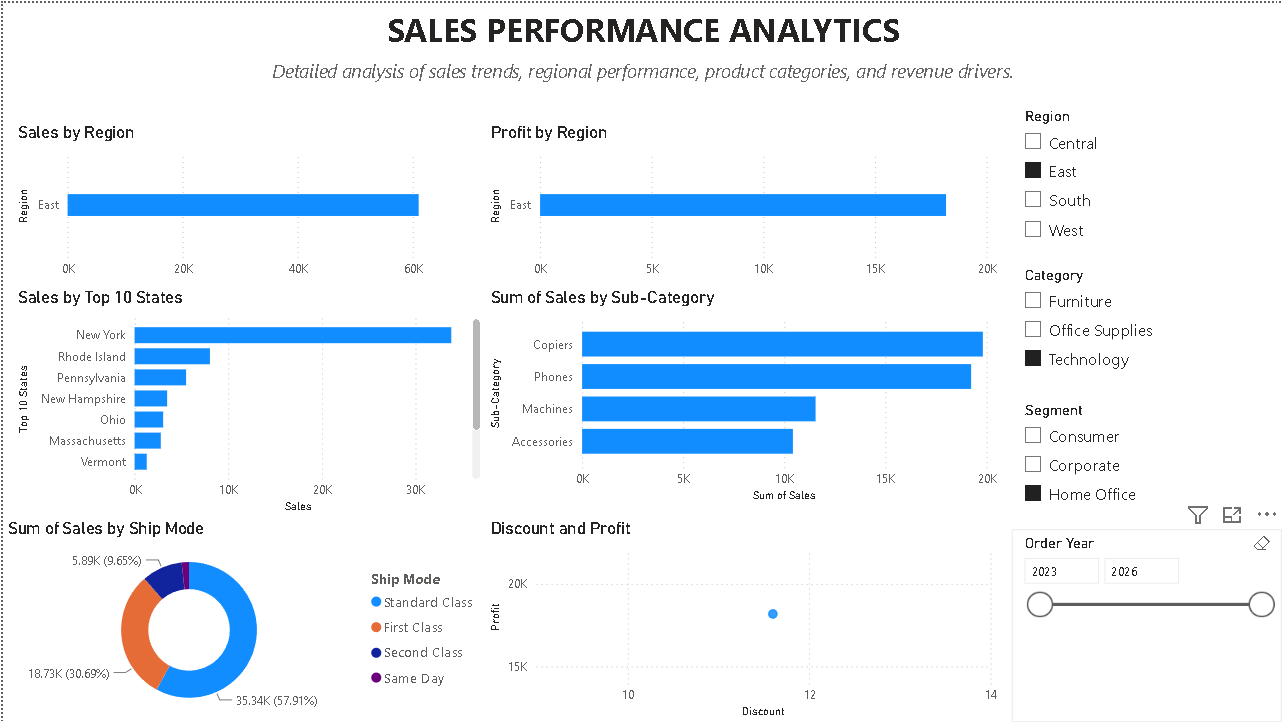

Layout of this report page (visuals, bound fields, positions):
{"tool":"powerbi","page":{"name":"Sales Analytics Dashboard","canvas":[1280,720],"ordinal":1},"visuals":[{"type":"clusteredBarChart","fields":{"Category":["superstore_final.Region"],"Y":["Sum(superstore_final.Sales)"]},"box":[10,118.8,472.5,165],"z":0},{"type":"clusteredBarChart","fields":{"Category":["superstore_final.Region"],"Y":["Sum(superstore_final.Profit)"]},"box":[482.5,118.8,516.2,165],"z":1000},{"type":"clusteredBarChart","fields":{"Category":["superstore_final.State/Province"],"Y":["Sum(superstore_final.Sales)"]},"box":[10,283.8,472.5,231.2],"z":2000},{"type":"clusteredBarChart","fields":{"Category":["superstore_final.Sub-Category"],"Y":["Sum(superstore_final.Sales)"]},"box":[482.5,283.8,516.2,220],"z":3000},{"type":"donutChart","fields":{"Category":["superstore_final.Ship Mode"],"Y":["Sum(superstore_final.Sales)"]},"box":[0,515,482.5,205],"z":4000},{"type":"scatterChart","fields":{"X":["Sum(superstore_final.Discount)"],"Y":["Sum(superstore_final.Profit)"]},"box":[482.5,515,516.2,205],"z":5000},{"type":"slicer","fields":{"Values":["superstore_final.Region"]},"box":[1008.8,100,271.2,158.8],"z":6000},{"type":"slicer","fields":{"Values":["superstore_final.Category"]},"box":[1008.8,258.8,271.2,128.8],"z":7000},{"type":"slicer","fields":{"Values":["superstore_final.Segment"]},"box":[1008.8,393.8,271.2,132.5],"z":8000},{"type":"slicer","fields":{"Values":["superstore_final.Order Year"]},"box":[1008.8,526.2,271.2,193.8],"z":9000},{"type":"textbox","box":[0,0,1280,62.5],"z":10000},{"type":"textbox","box":[0,50,1280,50],"z":11000}]}

Visuals, with their boxes in screenshot pixels (x1, y1, x2, y2), scaled from the page's 1280x720 canvas onto the 1282x722 screenshot:
clusteredBarChart - superstore_final.Region x Sum(superstore_final.Sales): box(10, 119, 483, 285)
clusteredBarChart - superstore_final.Region x Sum(superstore_final.Profit): box(483, 119, 1000, 285)
clusteredBarChart - superstore_final.State/Province x Sum(superstore_final.Sales): box(10, 285, 483, 516)
clusteredBarChart - superstore_final.Sub-Category x Sum(superstore_final.Sales): box(483, 285, 1000, 505)
donutChart - superstore_final.Ship Mode x Sum(superstore_final.Sales): box(0, 516, 483, 721)
scatterChart - Sum(superstore_final.Discount) x Sum(superstore_final.Profit): box(483, 516, 1000, 721)
slicer - superstore_final.Region: box(1010, 100, 1281, 260)
slicer - superstore_final.Category: box(1010, 260, 1281, 389)
slicer - superstore_final.Segment: box(1010, 395, 1281, 528)
slicer - superstore_final.Order Year: box(1010, 528, 1281, 721)
textbox: box(0, 0, 1281, 63)
textbox: box(0, 50, 1281, 100)
